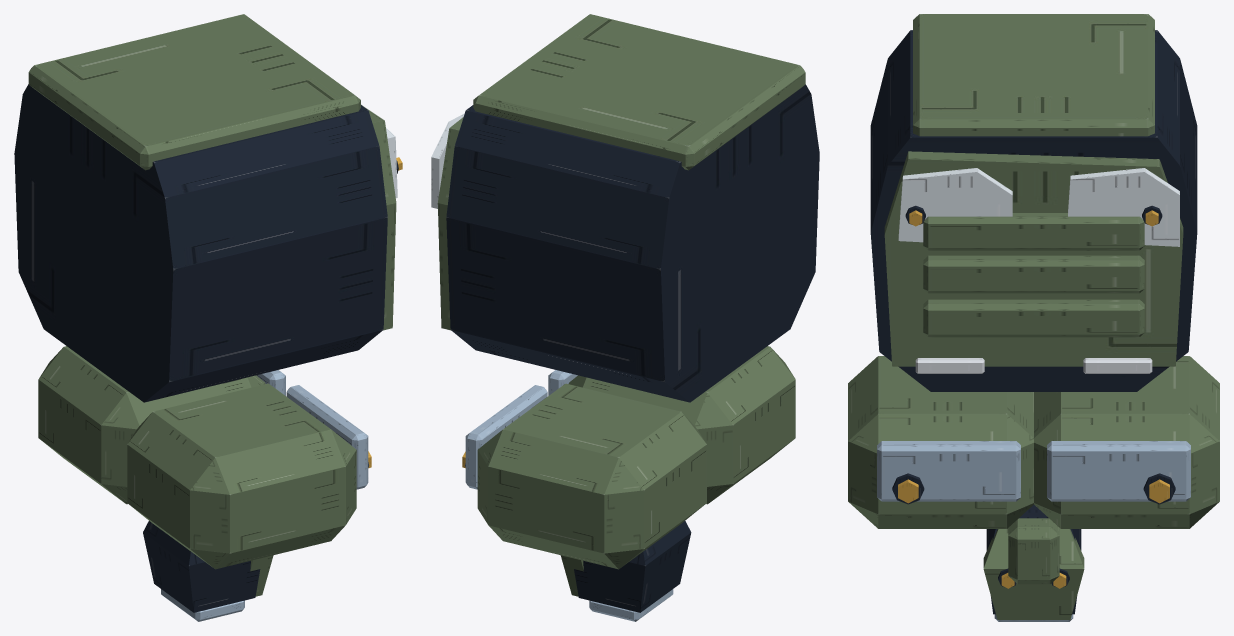
File: ballistic.glb
The picture shows the model from 3 angles, left to right: view 1: azimuth 30°, elevation 25°; view 2: azimuth 150°, elevation 25°; view 3: azimuth 270°, elevation 25°; orthographic projection. The views are drawn at different scales.
Visible parts, largest first — view 1: chest, arm_R, arm_L, forearm_L; view 2: chest, arm_L, arm_R, forearm_L; view 3: chest, arm_L, arm_R, forearm_L.
Part boxes in pixels (left/top/right/bottom): chest: left=14, top=14, right=402, bottom=402; arm_R: left=127, top=383, right=371, bottom=569; arm_L: left=38, top=346, right=285, bottom=504; forearm_L: left=143, top=521, right=273, bottom=621; chest: left=431, top=14, right=819, bottom=402; arm_L: left=462, top=383, right=706, bottom=569; arm_R: left=548, top=346, right=795, bottom=504; forearm_L: left=560, top=521, right=691, bottom=621; chest: left=870, top=14, right=1197, bottom=391; arm_L: left=1008, top=356, right=1219, bottom=584; arm_R: left=848, top=356, right=1033, bottom=528; forearm_L: left=983, top=505, right=1084, bottom=621.
Bounding box in the file's own units: 0.2845 × 0.555 × 0.346.
6 materials, 6 textured.
